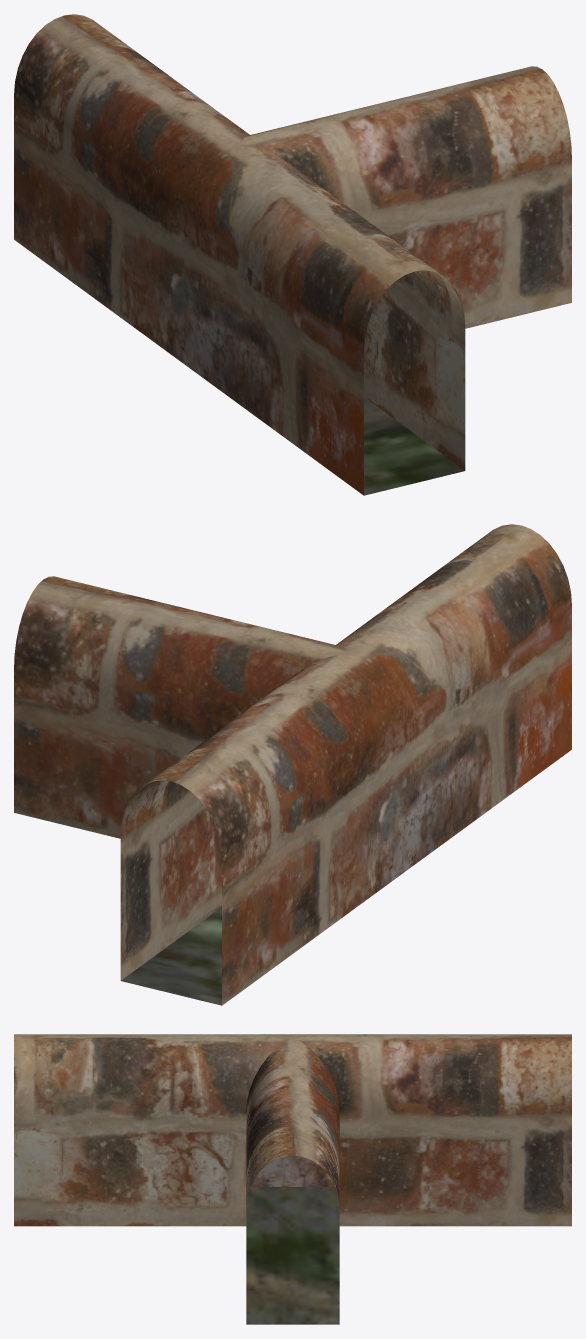
Rendered from tunnel intersection T.fbx.
3 renders of one model, top to bottom at view 1: azimuth 30°, elevation 25°; view 2: azimuth 150°, elevation 25°; view 3: azimuth 270°, elevation 25°, orthographic. The views are drawn at different scales.
Parts seen in each view (by area): view 1: tunnel intersection 6m T, tunnel floor intersection 6m T; view 2: tunnel intersection 6m T, tunnel floor intersection 6m T; view 3: tunnel intersection 6m T, tunnel floor intersection 6m T.
Part boxes in pixels (left/top/right/bottom): tunnel intersection 6m T: left=14, top=14, right=571, bottom=495; tunnel floor intersection 6m T: left=364, top=397, right=464, bottom=495; tunnel intersection 6m T: left=14, top=524, right=571, bottom=1005; tunnel floor intersection 6m T: left=121, top=907, right=221, bottom=1005; tunnel intersection 6m T: left=14, top=1034, right=571, bottom=1226; tunnel floor intersection 6m T: left=246, top=1187, right=339, bottom=1324.
Size of the model in its own units: 350 by 600 by 200.
